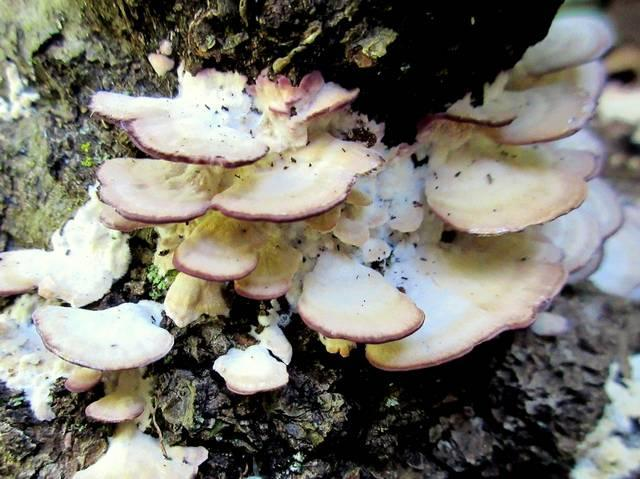Non-edible Mushroom: (6, 74, 621, 339), (31, 300, 175, 424)
